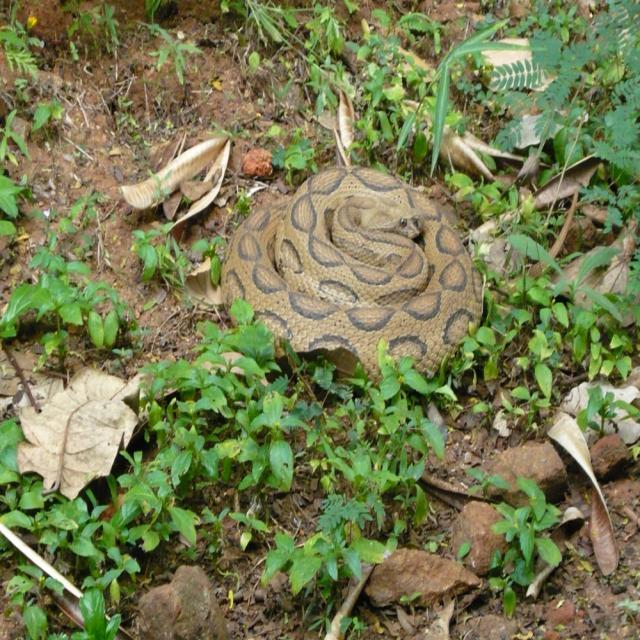Snake: (219, 85, 484, 391)
